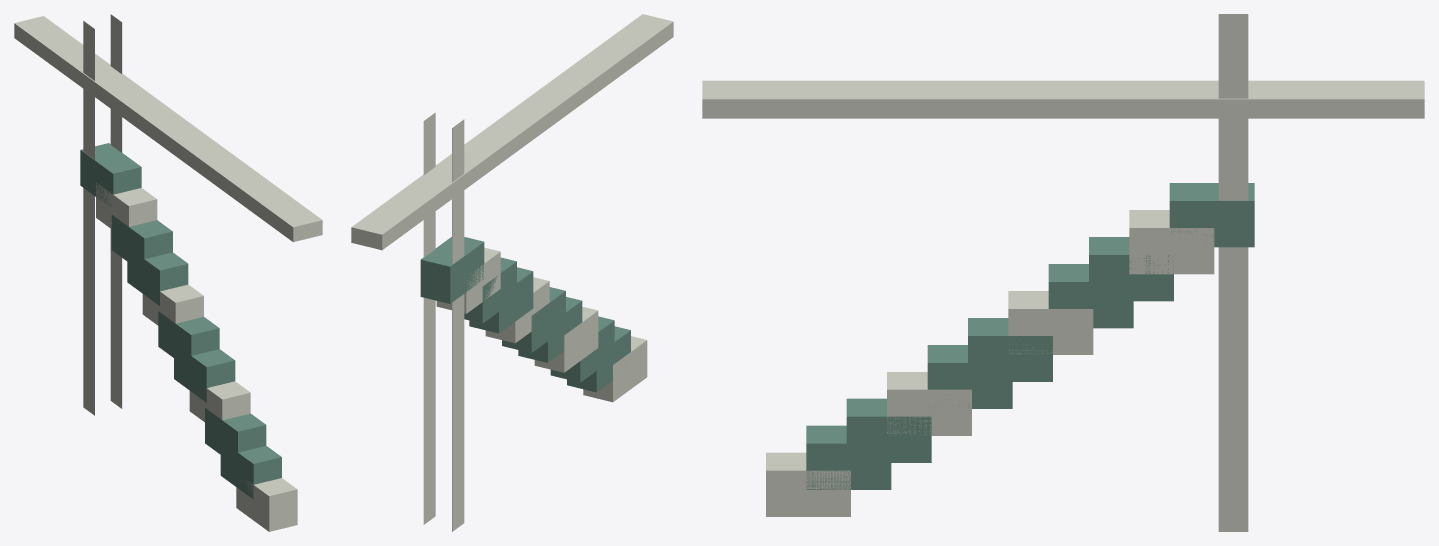
Rendered from stand-level-3.glb.
3 views of the same model, side by side, from view 1: azimuth 30°, elevation 25°; view 2: azimuth 150°, elevation 25°; view 3: azimuth 270°, elevation 25° (orthographic). The views are drawn at different scales.
Visible parts, largest first — view 1: Cobertura, Sustentação--1, Sustentação-1, Degrau-10, Degrau-0, Degrau-1, Degrau-4, Degrau-7, Degrau-8, Degrau-2, Degrau-5, Degrau-9 (+2 smaller); view 2: Cobertura, Sustentação--1, Sustentação-1, Degrau-10, Degrau-0, Degrau-3, Degrau-5, Degrau-7, Degrau-2, Degrau-8, Degrau-9, Degrau-1 (+2 smaller); view 3: Cobertura, Sustentação-1, Degrau-9, Degrau-0, Degrau-1, Degrau-2, Degrau-10, Degrau-3, Degrau-5, Degrau-6, Degrau-7, Degrau-4 (+1 smaller).
Boxes of the visible parts, x1,y1,x2,y2 form: Cobertura: (14,16,322,242); Sustentação--1: (83,21,94,415); Sustentação-1: (110,14,122,408); Degrau-10: (80,143,141,207); Degrau-0: (236,478,297,531); Degrau-1: (220,440,281,499); Degrau-4: (174,343,235,402); Degrau-7: (127,252,188,305); Degrau-8: (111,215,172,264); Degrau-2: (205,408,266,454); Degrau-5: (158,311,219,357); Degrau-9: (96,182,157,228); Cobertura: (351,14,673,250); Sustentação--1: (452,119,464,531); Sustentação-1: (423,112,435,524); Degrau-10: (420,237,484,303); Degrau-0: (583,336,647,402); Degrau-3: (534,306,598,372); Degrau-5: (502,287,565,352); Degrau-7: (469,267,533,333); Degrau-2: (550,316,614,382); Degrau-8: (464,257,516,323); Degrau-9: (436,247,500,313); Degrau-1: (567,326,630,392); Cobertura: (702,80,1424,118); Sustentação-1: (1218,31,1248,531); Degrau-9: (1129,210,1214,274); Degrau-0: (766,452,850,516); Degrau-1: (806,425,891,489); Degrau-2: (846,398,931,462); Degrau-10: (1169,183,1254,247); Degrau-3: (887,372,971,435); Degrau-5: (968,318,1052,381); Degrau-6: (1008,291,1093,354); Degrau-7: (1048,264,1133,328); Degrau-4: (927,345,1012,408).
Size of the model in its own units: 1.04 by 13 by 17.
